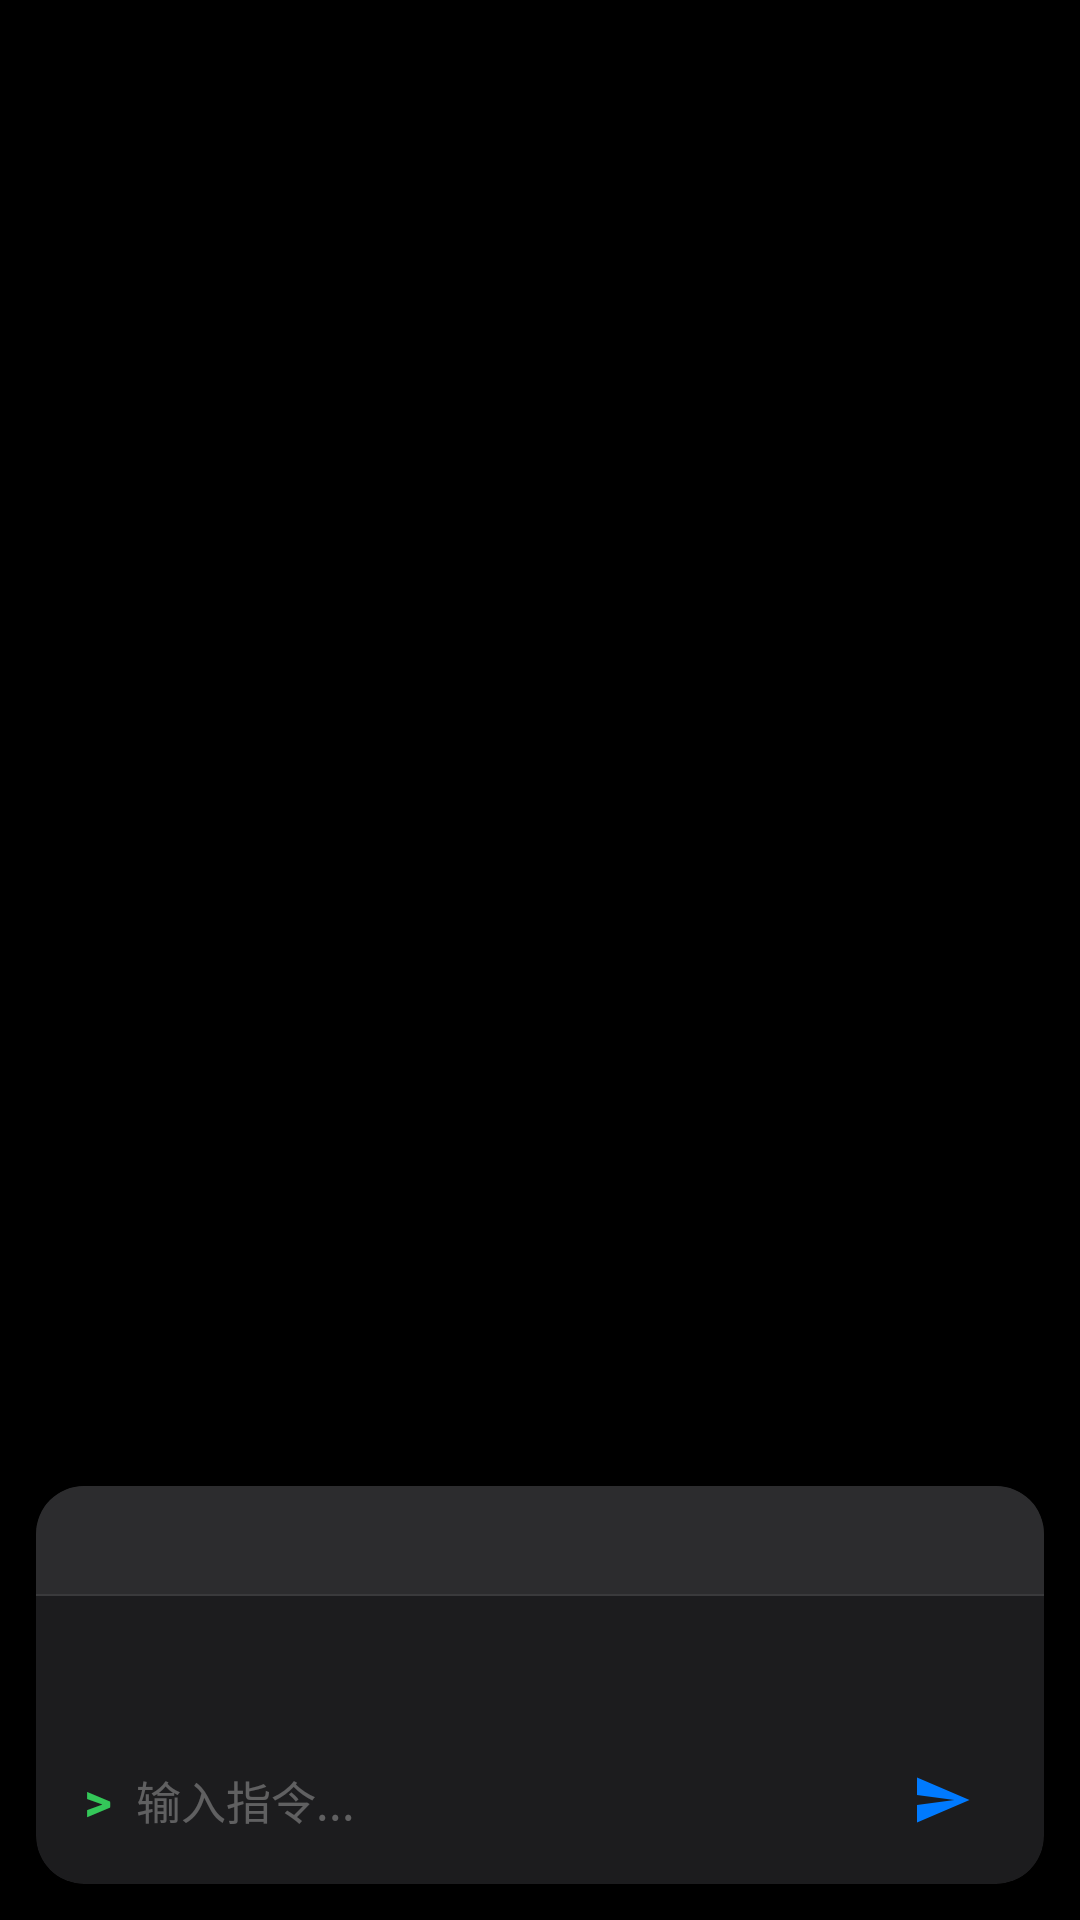

Icon click points for this 1080*1920 phone screenshot, format (x=x, y=y):
send: (x=943, y=1800)
